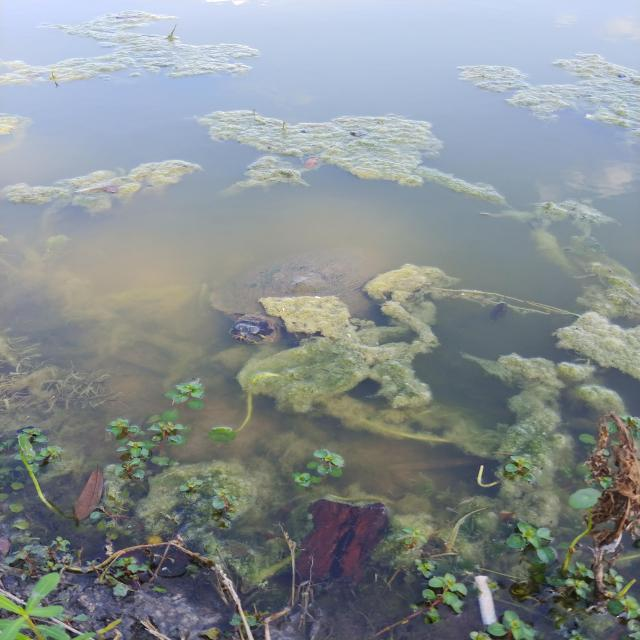litter: (474, 575, 498, 632)
